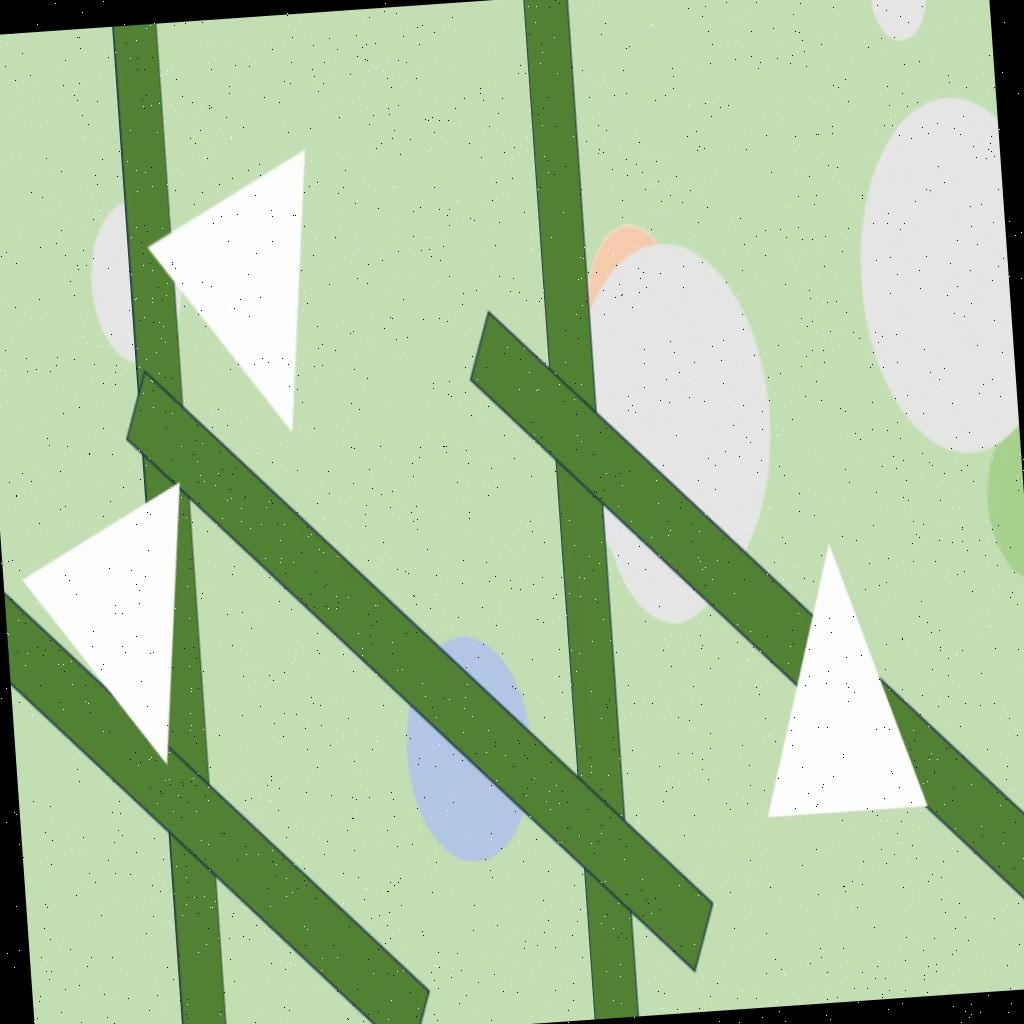Circle: (562, 234, 782, 568), (850, 92, 1020, 454), (396, 628, 538, 866), (612, 462, 722, 631), (84, 193, 188, 370), (580, 216, 672, 361), (984, 421, 1024, 586), (867, 0, 929, 43)
